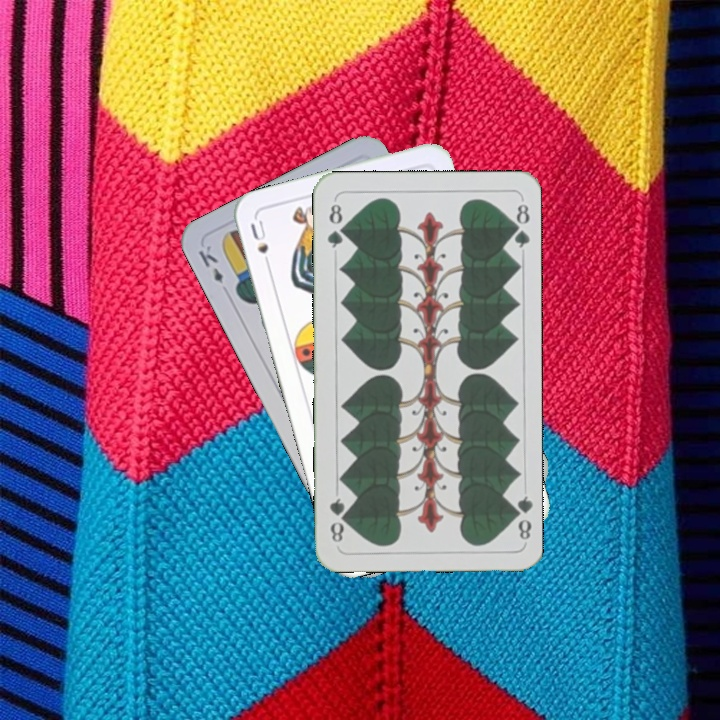EK: (194, 241, 226, 286)
G8: (507, 492, 534, 545), (323, 197, 347, 251)
SU: (246, 216, 274, 273)
